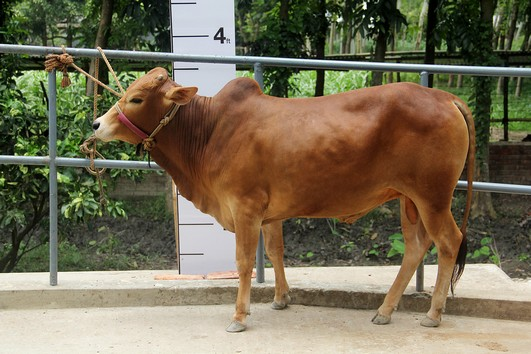cow: (86, 65, 483, 331)
